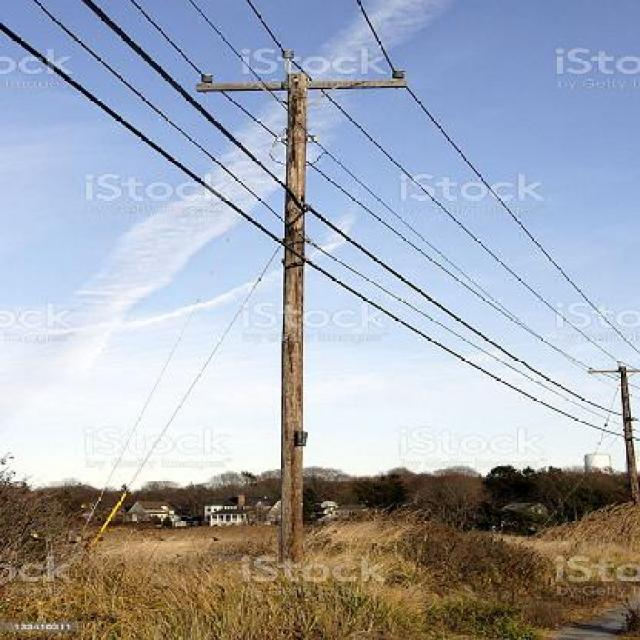pole: (198, 58, 414, 557), (582, 342, 638, 510)
